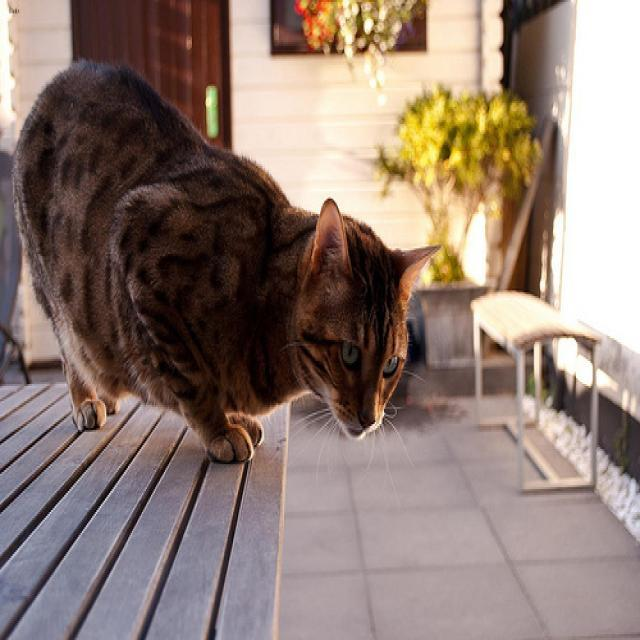Bengal: (291, 194, 441, 443)
